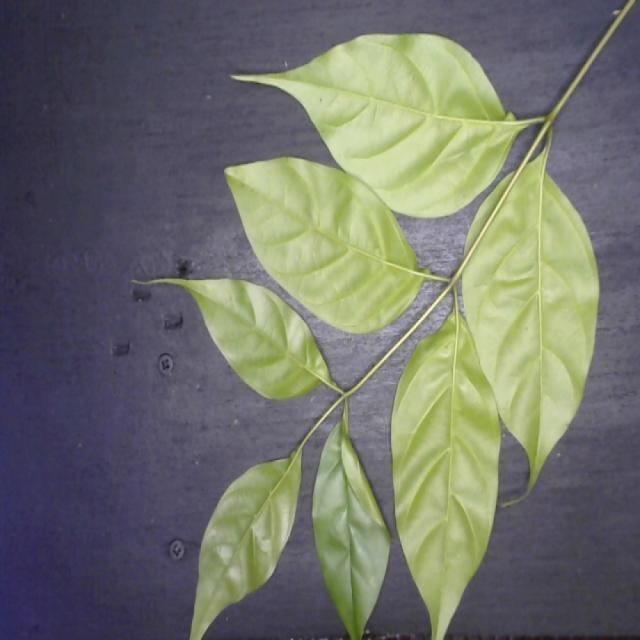biodegradable: (123, 28, 604, 640)
